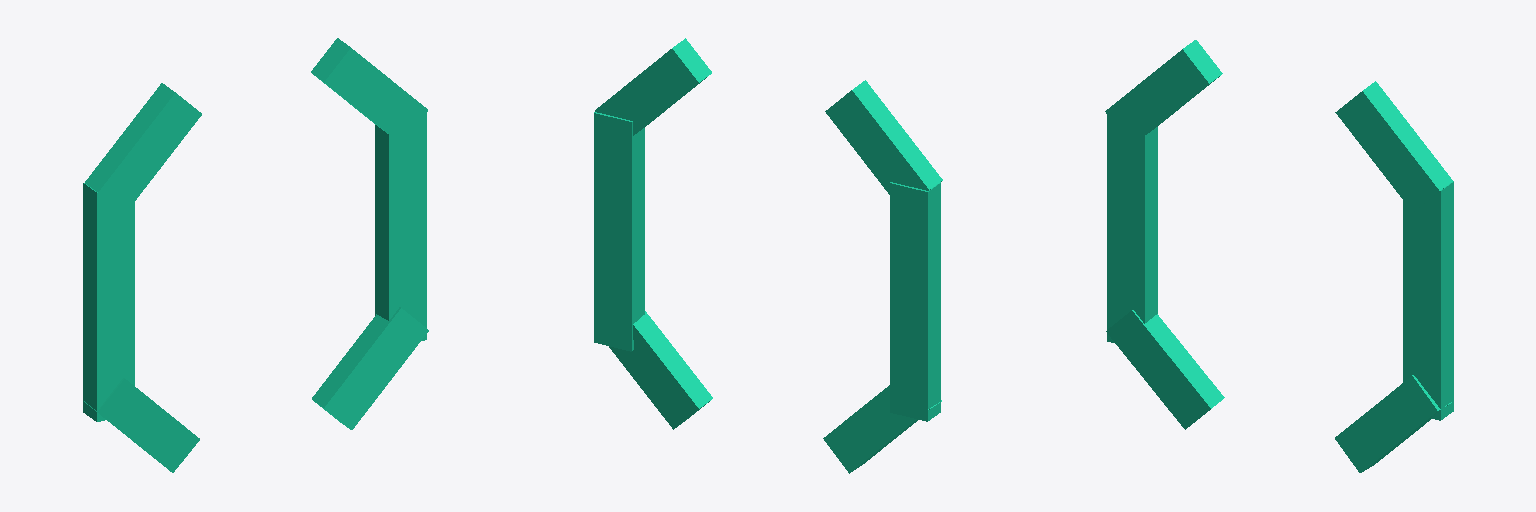
3 renders of one model, left to right at view 1: azimuth 30°, elevation 25°; view 2: azimuth 150°, elevation 25°; view 3: azimuth 330°, elevation 25°, orthographic.
Visible parts, largest first — view 1: 立方体.001, 立方体.004_立方体.005, 立方体.002_立方体.003, 立方体.006_立方体.007, 立方体.003_立方体.004, 立方体.005_立方体.006; view 2: 立方体.001, 立方体.004_立方体.005, 立方体.002_立方体.003, 立方体.006_立方体.007, 立方体.003_立方体.004, 立方体.005_立方体.006; view 3: 立方体.004_立方体.005, 立方体.001, 立方体.003_立方体.004, 立方体.005_立方体.006, 立方体.002_立方体.003, 立方体.006_立方体.007.
Part boxes in pixels (left/top/right/bottom): 立方体.001: left=83, top=183, right=134, bottom=421; 立方体.004_立方体.005: left=375, top=113, right=426, bottom=340; 立方体.002_立方体.003: left=85, top=83, right=201, bottom=213; 立方体.006_立方体.007: left=312, top=307, right=428, bottom=429; 立方体.003_立方体.004: left=311, top=38, right=427, bottom=144; 立方体.005_立方体.006: left=84, top=378, right=199, bottom=472; 立方体.001: left=890, top=182, right=940, bottom=421; 立方体.004_立方体.005: left=594, top=112, right=644, bottom=351; 立方体.002_立方体.003: left=825, top=80, right=942, bottom=194; 立方体.006_立方体.007: left=609, top=311, right=712, bottom=429; 立方体.003_立方体.004: left=595, top=38, right=711, bottom=135; 立方体.005_立方体.006: left=823, top=385, right=941, bottom=473; 立方体.004_立方体.005: left=1403, top=181, right=1453, bottom=420; 立方体.001: left=1107, top=115, right=1157, bottom=342; 立方体.003_立方体.004: left=1335, top=81, right=1452, bottom=211; 立方体.005_立方体.006: left=1106, top=310, right=1224, bottom=429; 立方体.002_立方体.003: left=1105, top=40, right=1222, bottom=145; 立方体.006_立方体.007: left=1335, top=375, right=1451, bottom=472.
Bounding box in the file's own units: 5.24 × 5.75 × 0.4678.
Materials: 1 (1 with a texture image).